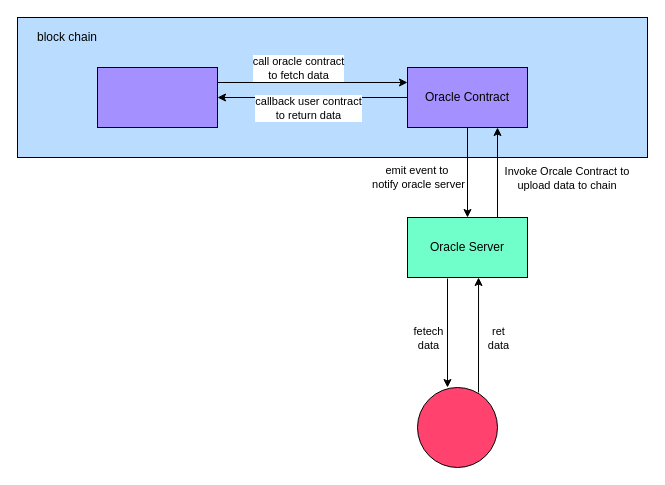
The diagram is 665 pixels wide and 485 high, and some of its shapes have lost their labels. The centre of each missing label's shape, as x and y in pixels:
Data Source: [457,427]
User Contract: [157,97]
